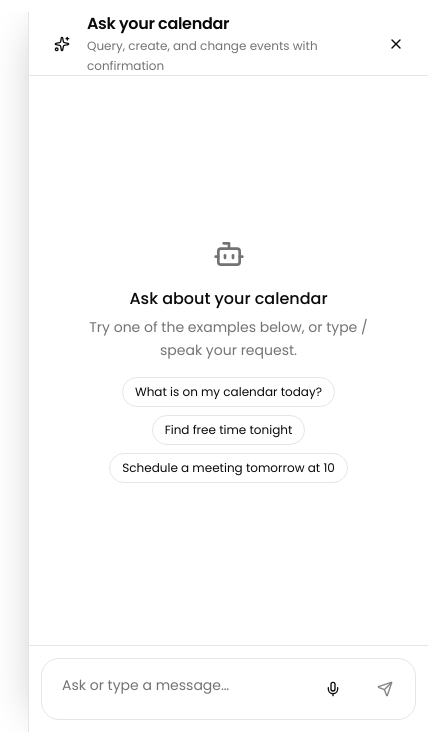
it: AssistantPanel › confirms native update tool results with event data
Type "Make Product Sync important" into the text box with placeholder "Ask or type a message…". click: (176, 689)
box: [50,667,303,711]
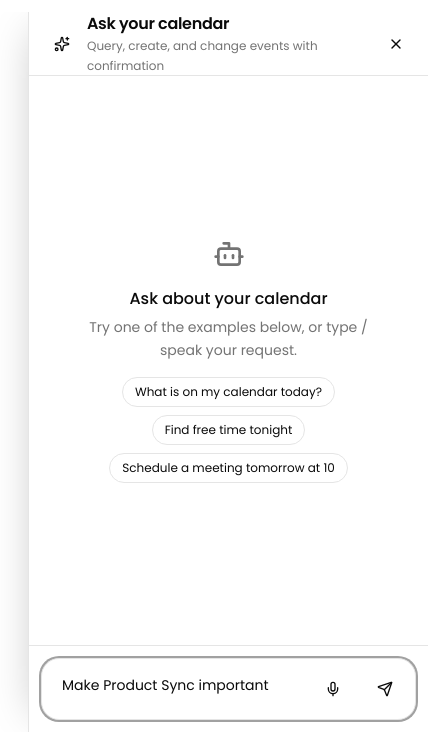
Click the button named "Send". click: click(385, 689)
box: [363,667,407,711]
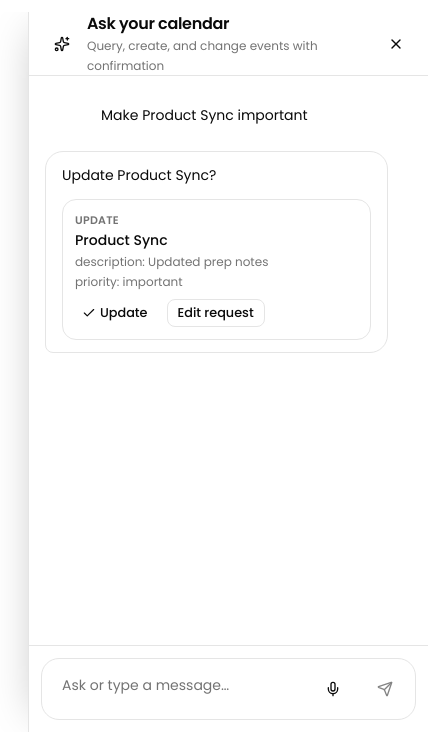
Now the text "description: Updated prep notes" is shown, box [75,252,268,272]
Click the button "Update". click: click(117, 313)
box: [75,299,158,327]
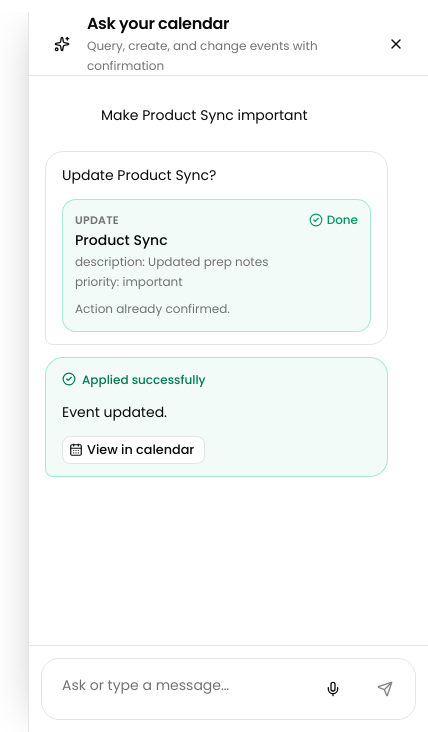
Now the text "Applied successfully" is shown, box [62,371,206,388]
Now the text "Action already confirmed." is shown, box [75,300,230,317]
